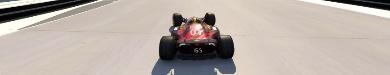Car: (158, 12, 234, 60)
